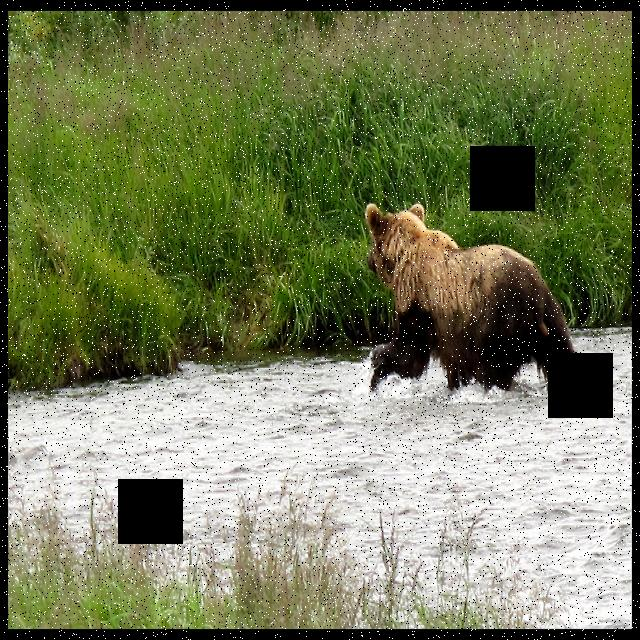Bear: (358, 194, 588, 396)
